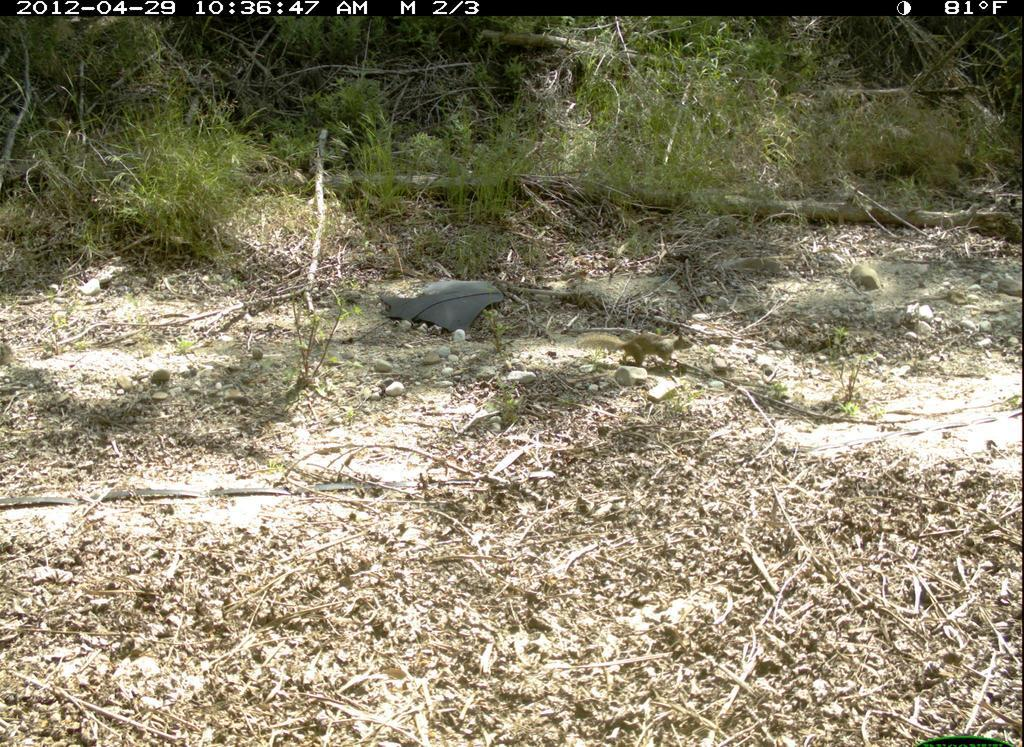squirrel: (568, 319, 696, 382)
